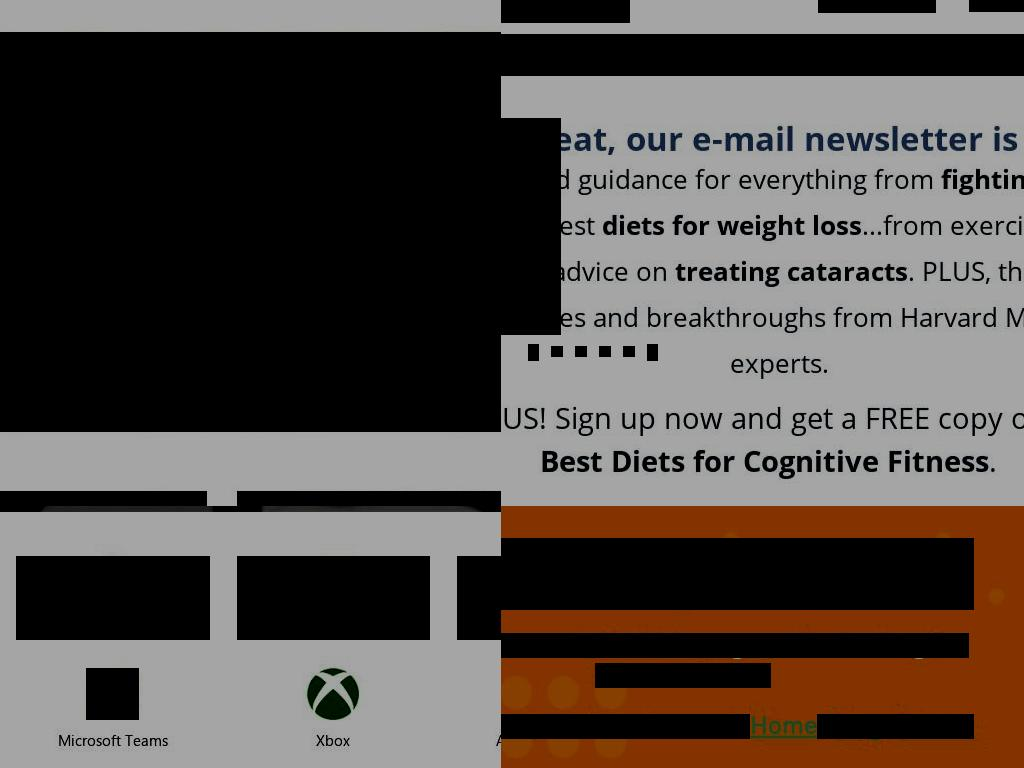button: (916, 118, 1024, 335), (16, 556, 210, 640), (16, 668, 210, 752), (501, 118, 576, 335), (237, 556, 430, 640), (237, 668, 430, 752), (953, 93, 1024, 293), (721, 428, 897, 506), (533, 34, 633, 76), (632, 34, 732, 76), (731, 34, 831, 76), (830, 34, 930, 76), (929, 34, 1024, 76), (457, 556, 501, 640), (457, 668, 501, 752), (818, 0, 936, 13), (501, 34, 534, 76), (528, 344, 539, 361), (647, 344, 658, 361)
heading: (501, 538, 974, 610), (591, 115, 857, 161), (501, 425, 670, 465), (501, 382, 671, 408), (731, 385, 872, 405)
image: (0, 32, 501, 432), (721, 428, 897, 506), (501, 118, 561, 335), (916, 118, 1024, 166), (86, 556, 139, 608), (307, 556, 360, 608), (86, 668, 139, 720), (307, 668, 360, 720), (551, 346, 563, 357), (575, 346, 587, 357), (599, 346, 611, 357), (623, 346, 635, 357)
link: (894, 714, 974, 739), (591, 162, 699, 178), (750, 714, 817, 739), (830, 714, 881, 739), (591, 262, 638, 282)
text: (591, 190, 870, 258), (501, 633, 969, 658), (501, 714, 750, 739), (595, 663, 771, 688), (641, 39, 724, 70), (839, 39, 922, 70), (938, 39, 1021, 70), (57, 730, 168, 750), (306, 618, 360, 638), (92, 618, 133, 638), (756, 47, 807, 63), (501, 39, 526, 70), (316, 730, 351, 750), (568, 47, 599, 63), (817, 714, 830, 739), (881, 714, 894, 739)
